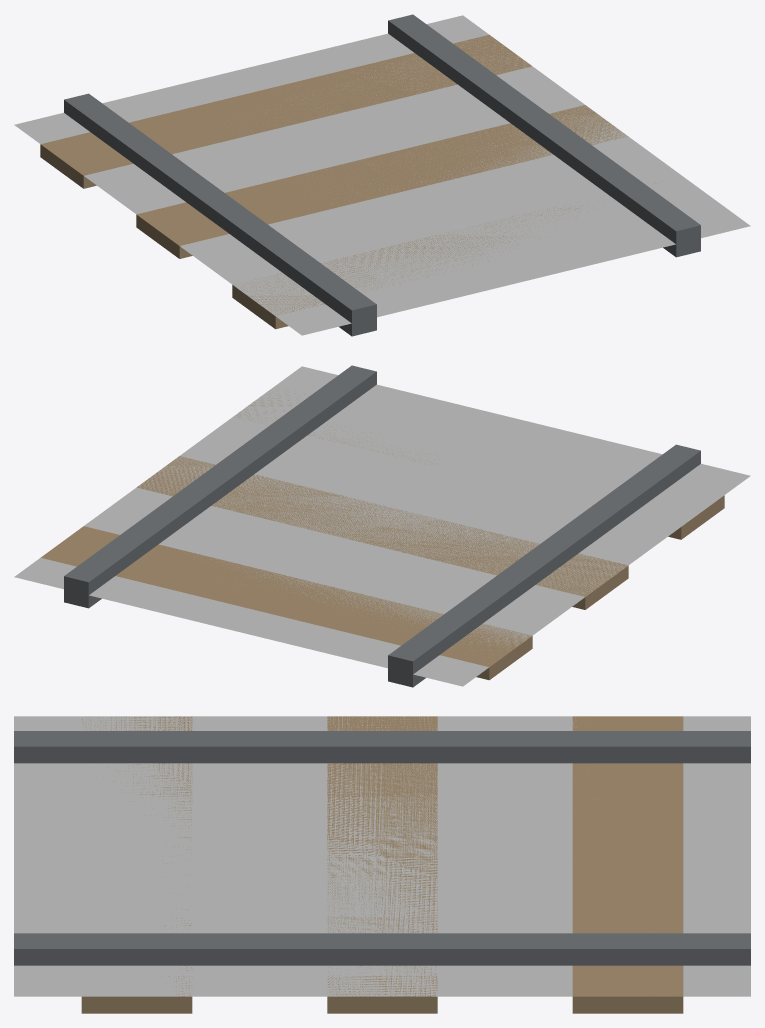
Rendered from LightWoodMechShortTrainTrack1.fbx.
3 renders of one model, top to bottom at view 1: azimuth 30°, elevation 25°; view 2: azimuth 150°, elevation 25°; view 3: azimuth 270°, elevation 25°, orthographic. The views are drawn at different scales.
Visible parts, largest first — view 1: COLSurface, LightWoodMechShortTrainTrack1; view 2: COLSurface, LightWoodMechShortTrainTrack1; view 3: COLSurface, LightWoodMechShortTrainTrack1.
Part boxes in pixels (bbox=[...]): COLSurface: bbox=[14, 15, 750, 335]; LightWoodMechShortTrainTrack1: bbox=[40, 14, 700, 336]; COLSurface: bbox=[14, 366, 750, 686]; LightWoodMechShortTrainTrack1: bbox=[41, 365, 724, 687]; COLSurface: bbox=[14, 716, 750, 996]; LightWoodMechShortTrainTrack1: bbox=[14, 716, 750, 1013].
Bounding box in the file's own units: 180 × 10 × 200.
